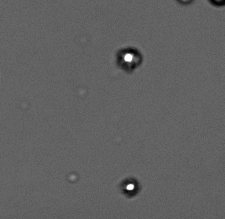Living Cell: (117, 47, 141, 70), (121, 178, 140, 196)
